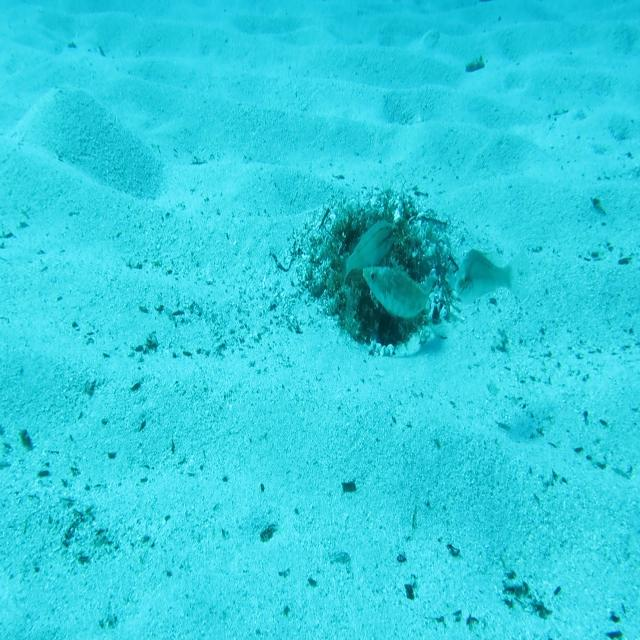BEND: (362, 254, 437, 324)
female: (449, 246, 533, 307), (342, 217, 399, 287)
nest: (289, 183, 462, 361)
vegetation: (464, 52, 485, 74), (259, 522, 277, 540), (342, 475, 355, 495)
